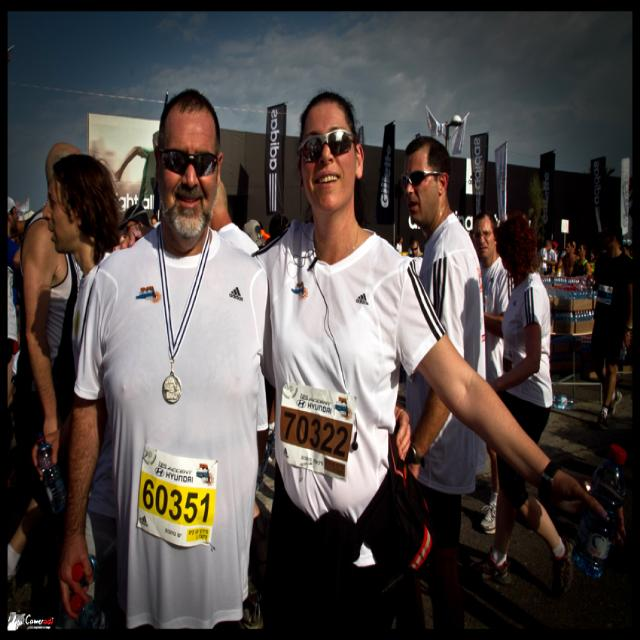Bib: (282, 408, 358, 462), (140, 478, 211, 532)
